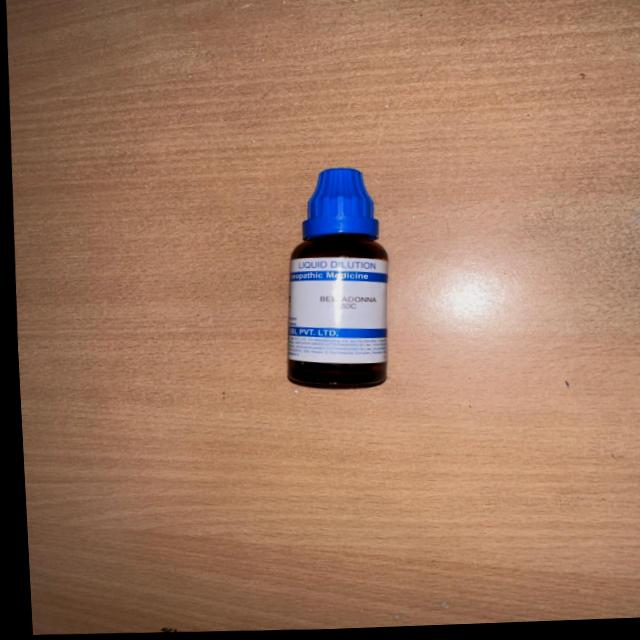medicine: (271, 156, 400, 400)
